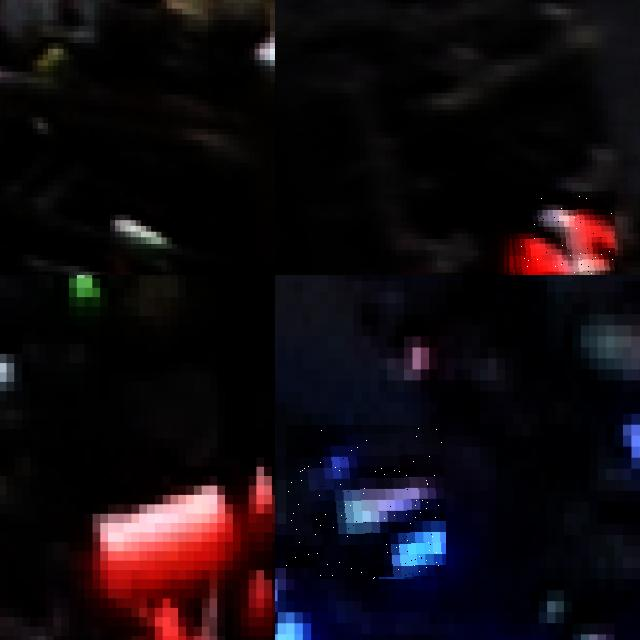B4: (286, 425, 446, 579), (479, 595, 640, 640), (275, 523, 315, 640)
R2: (506, 191, 615, 275)
